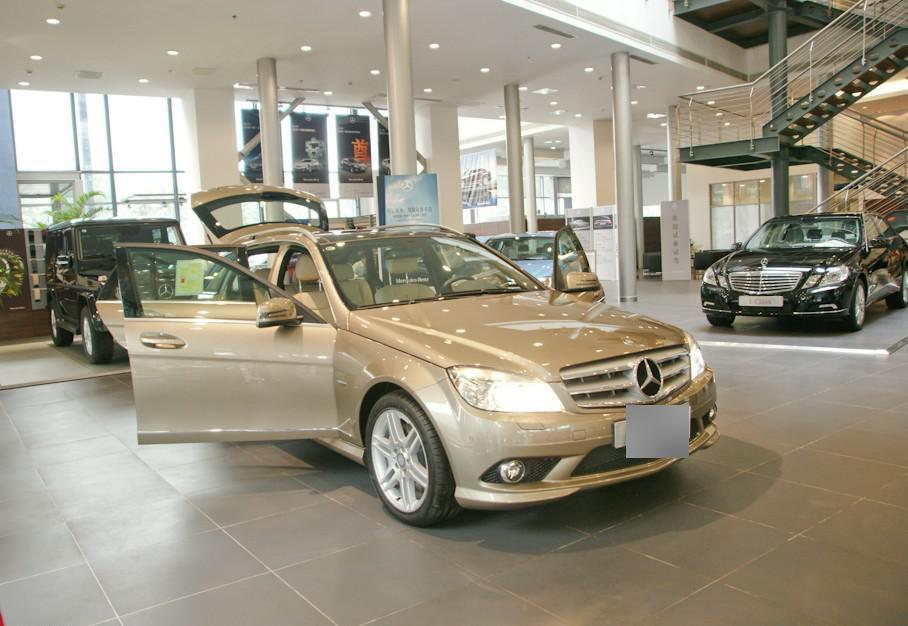Wagon: (110, 183, 724, 527)
